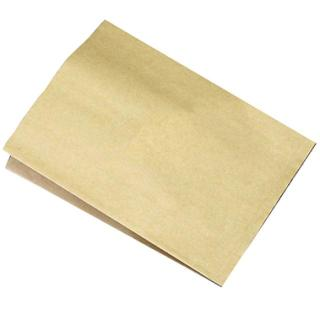Anorganik: (7, 22, 312, 283)
